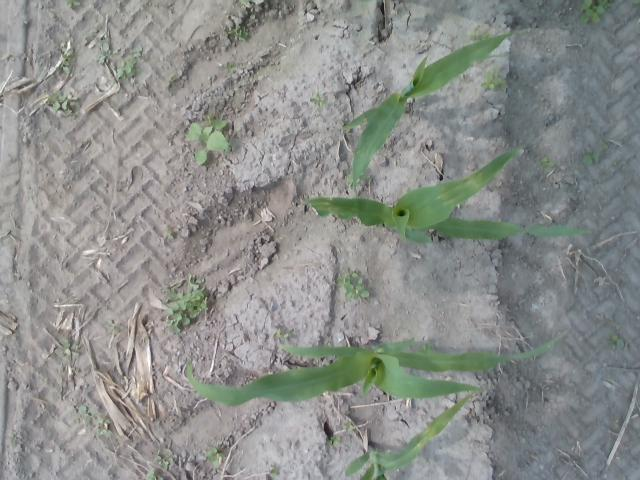Maize: (342, 26, 530, 199), (302, 142, 591, 244), (186, 329, 566, 406), (344, 392, 474, 480)
Weeds: (164, 273, 207, 334), (185, 114, 230, 164), (115, 44, 144, 82), (336, 268, 370, 300), (47, 89, 81, 118), (580, 0, 616, 24), (56, 40, 76, 74), (582, 140, 610, 164), (480, 68, 507, 90), (203, 446, 226, 468), (465, 25, 490, 42), (94, 414, 112, 436), (347, 170, 370, 187), (154, 450, 173, 470), (227, 26, 249, 42), (56, 336, 72, 358), (94, 40, 109, 63), (78, 404, 95, 424), (309, 90, 330, 106), (607, 332, 624, 350), (414, 342, 436, 354), (273, 328, 293, 340), (144, 469, 164, 480), (538, 156, 556, 168), (105, 319, 118, 333), (85, 29, 98, 42), (222, 60, 236, 72), (328, 436, 342, 446), (64, 0, 80, 8), (344, 421, 354, 432), (268, 467, 278, 477), (8, 434, 16, 446), (164, 229, 173, 238), (238, 0, 250, 5), (633, 0, 640, 4)
